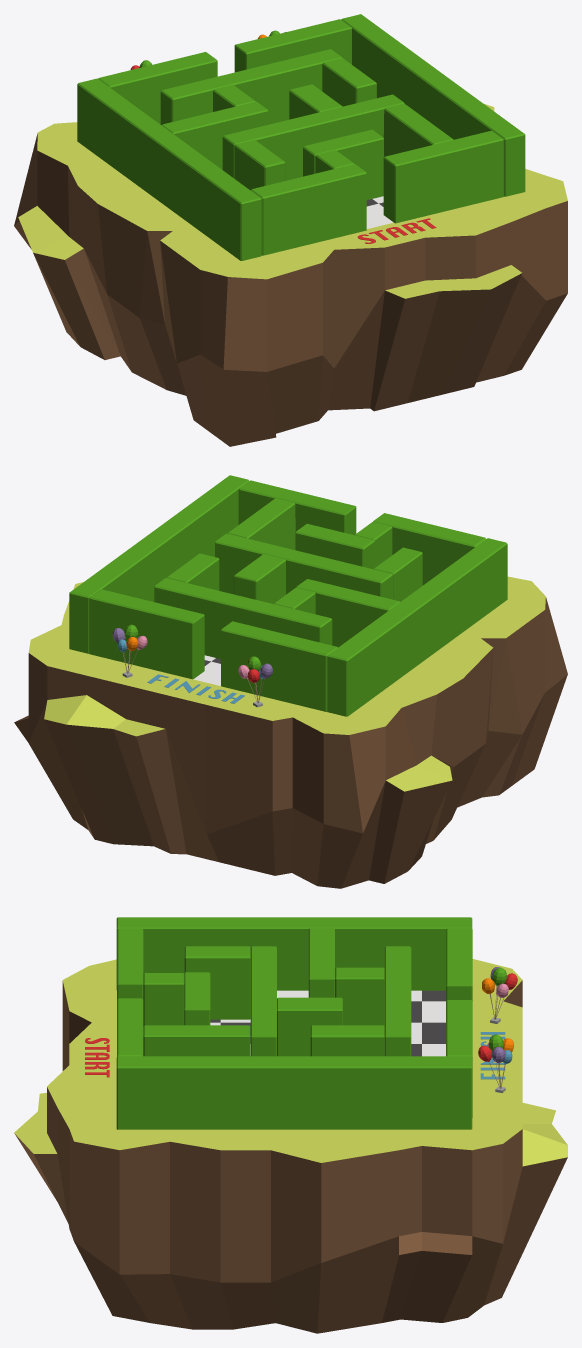
The model's file is Island_8.fbx.
The picture shows the model from 3 angles, top to bottom: view 1: azimuth 30°, elevation 25°; view 2: azimuth 150°, elevation 25°; view 3: azimuth 270°, elevation 25°; orthographic projection. The views are drawn at different scales.
Parts seen in each view (by area): view 1: Isl_8_Base, Isl_8_Maze, Isl_8_Sign_Start; view 2: Isl_8_Base, Isl_8_Maze, Isl_8_Air_Balloons_2, Isl_8_Air_Balloons_1, Isl_8_Sign_Finish; view 3: Isl_8_Base, Isl_8_Maze, Isl_8_Air_Balloons_2, Isl_8_Air_Balloons_1, Isl_8_Sign_Start.
Boxes of the visible parts, box(x1,y1,x2,y2) form: Isl_8_Base: box(14, 104, 567, 446); Isl_8_Maze: box(77, 14, 525, 260); Isl_8_Sign_Start: box(357, 218, 436, 243); Isl_8_Base: box(14, 576, 567, 888); Isl_8_Maze: box(69, 475, 507, 716); Isl_8_Air_Balloons_2: box(112, 624, 147, 677); Isl_8_Air_Balloons_1: box(238, 656, 272, 707); Isl_8_Sign_Finish: box(147, 674, 244, 703); Isl_8_Base: box(14, 959, 567, 1333); Isl_8_Maze: box(116, 917, 472, 1129); Isl_8_Air_Balloons_2: box(478, 1034, 513, 1093); Isl_8_Air_Balloons_1: box(482, 967, 517, 1023); Isl_8_Sign_Start: box(85, 1038, 109, 1077).
Bounding box in the file's own units: 2333 × 2445 × 1228.
